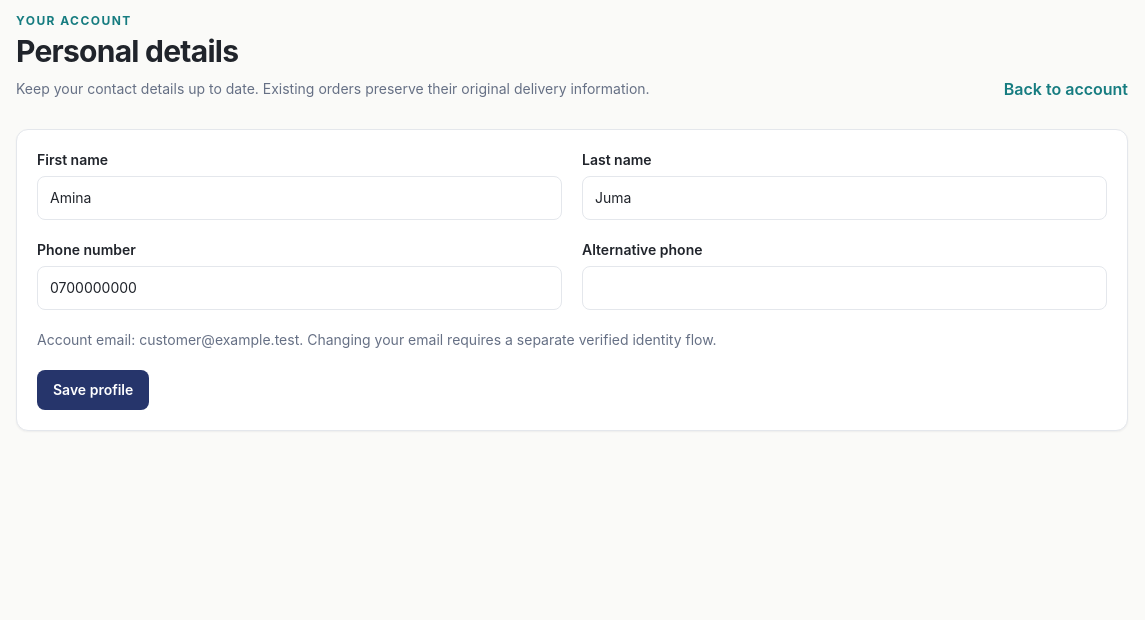
Test: owned customer profile UI › does not claim success when the backend update rejects
The width and height of the screenshot is (1145, 620).
Expected: the field showing "Amina" is shown, x1=37 y1=176 x2=562 y2=220
Click the button "Save profile".
click(93, 390)  # box x1=37 y1=370 x2=149 y2=410
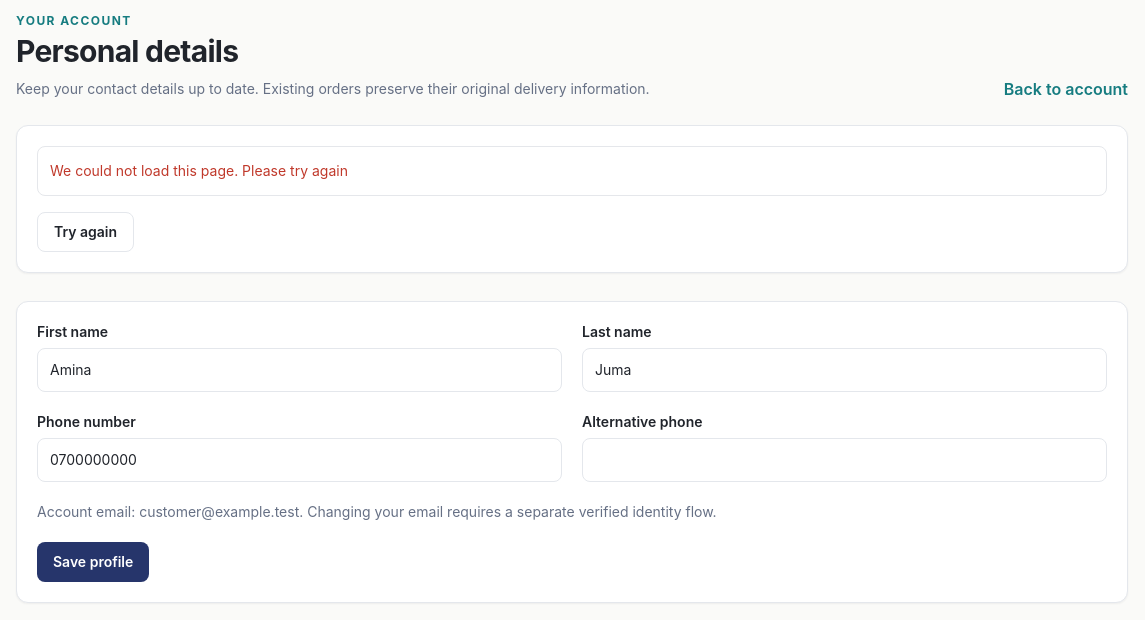
Now the text "We could not load this page. Please try again" is shown, box x1=37 y1=146 x2=1107 y2=196
